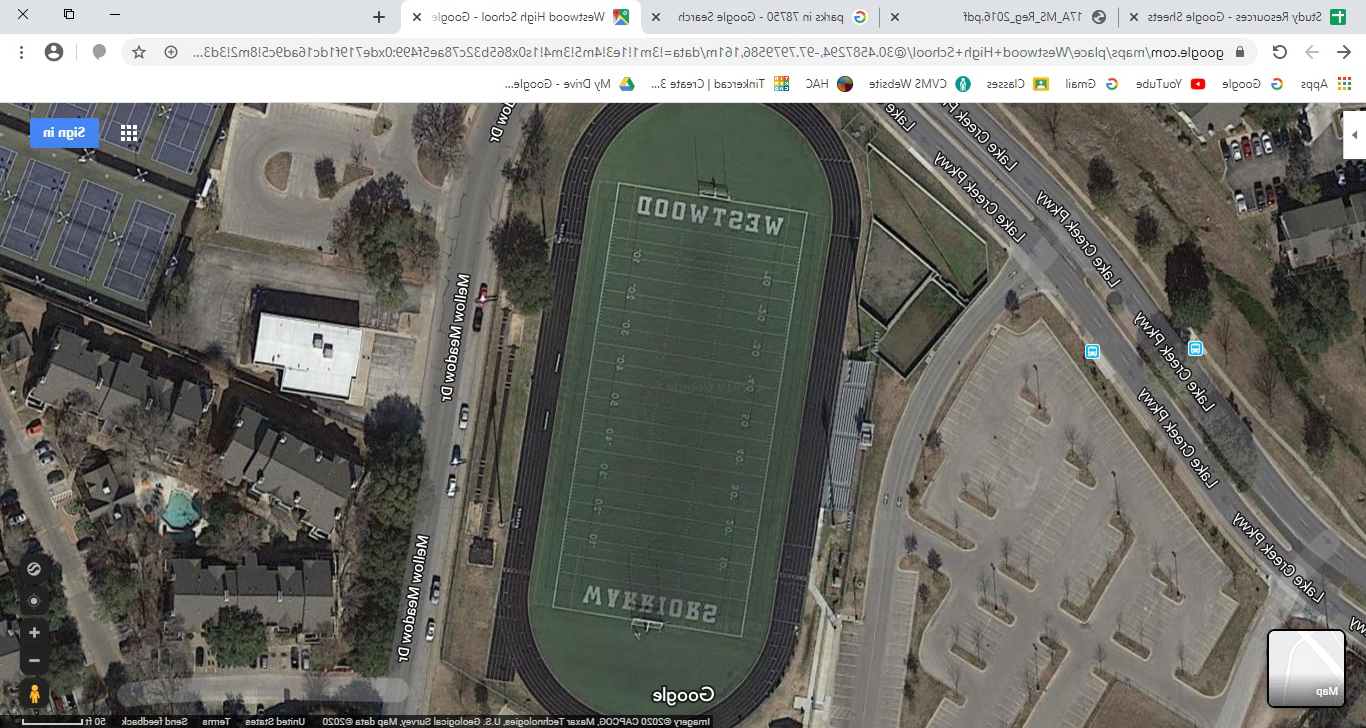football: (440, 113, 921, 728)
